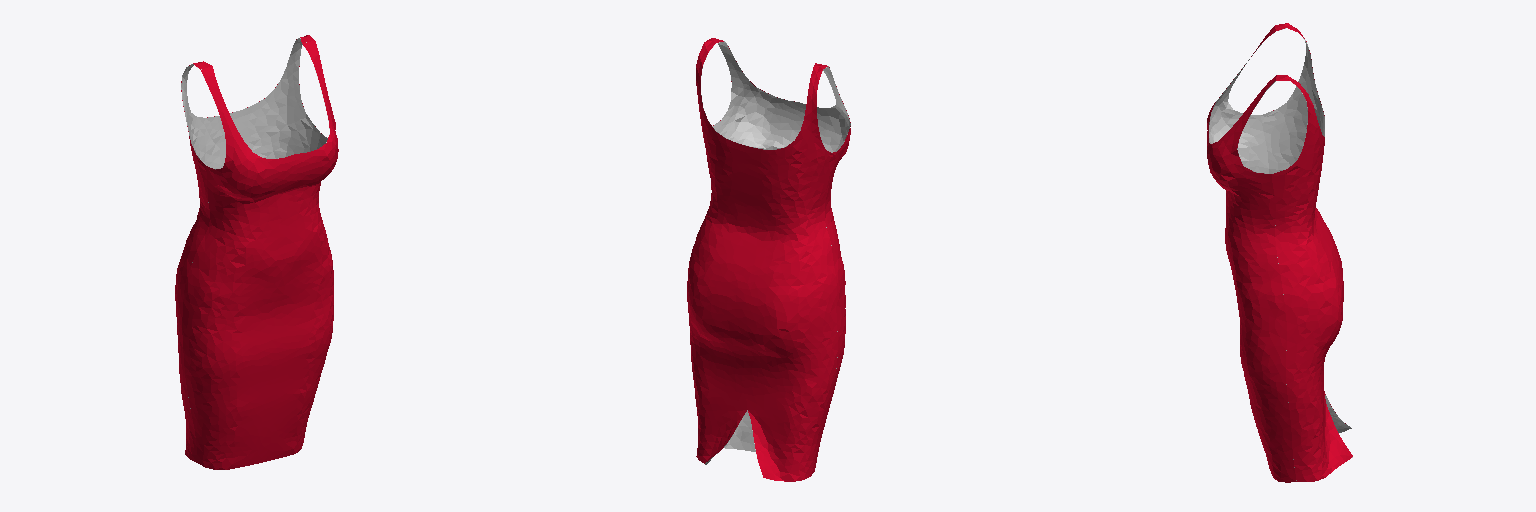
3 renders of one model, left to right at view 1: azimuth 30°, elevation 25°; view 2: azimuth 150°, elevation 25°; view 3: azimuth 270°, elevation 25°, orthographic.
Bounding box in the file's own units: 324 × 883 × 288.
Materials: 3 (1 with a texture image).